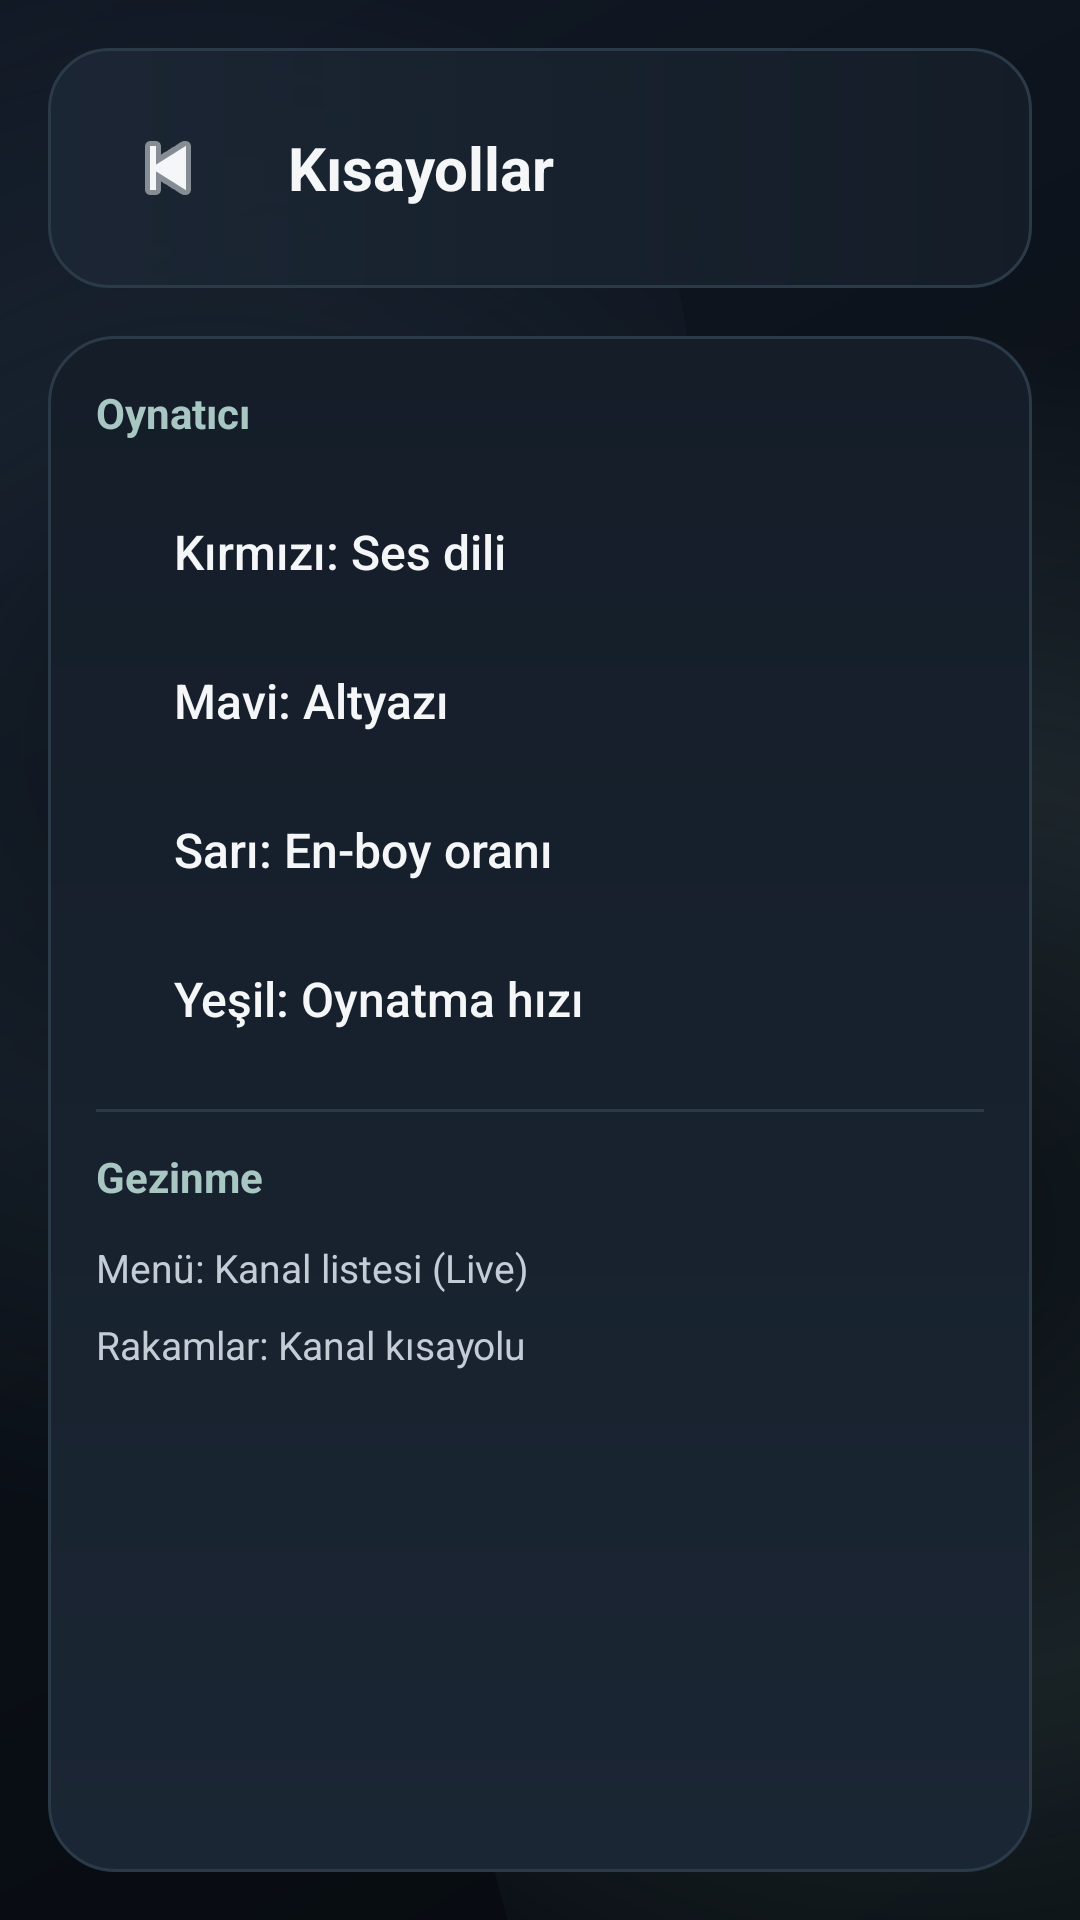

Named icons in this screenshot (1080px×1920px) and their bounding boxes, (x1, y1, x2, y2):
previous: (145, 141, 191, 195)
